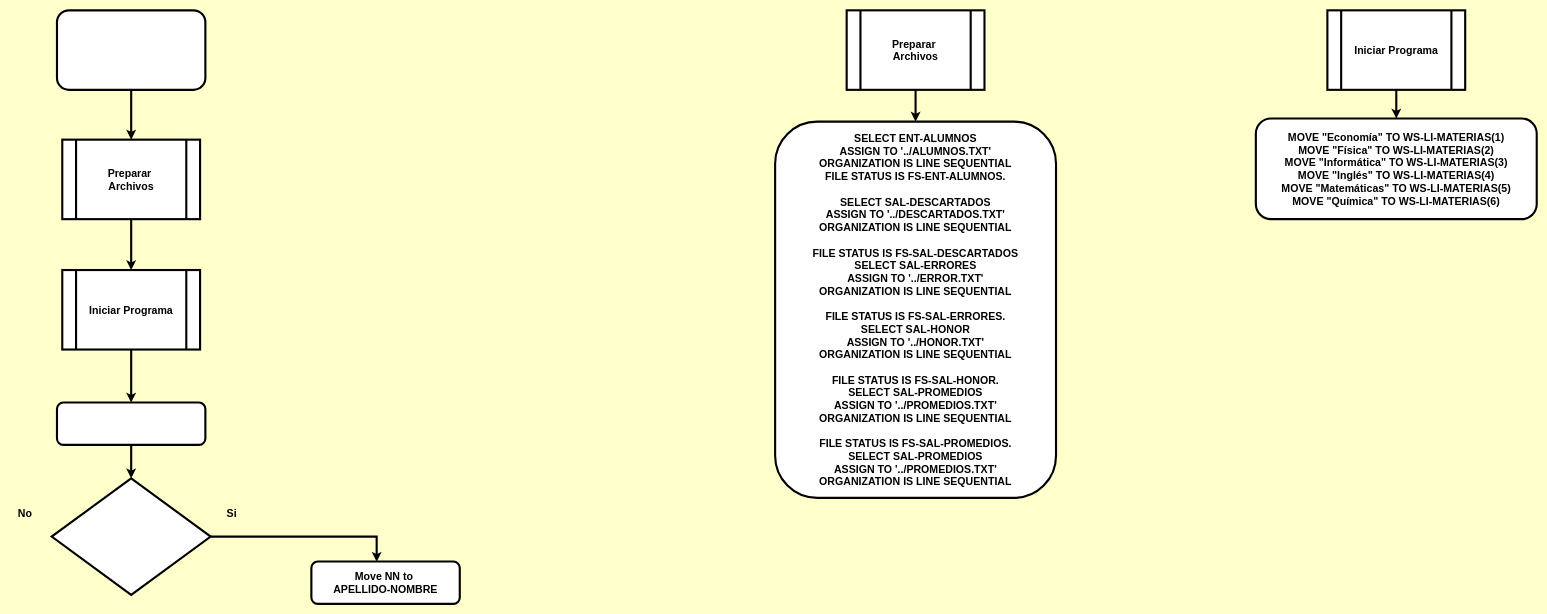
Some shapes in this 1547 by 614 pixel diagram are drawn without their labels. Each missing label, with the box of its shape:
Es el último registro del archivo ?: (50, 477, 211, 596)
IINICIAR PROGRAMA TP 01: (56, 9, 206, 91)
Leer un registro del archivo alumno.txt: (56, 401, 206, 446)
